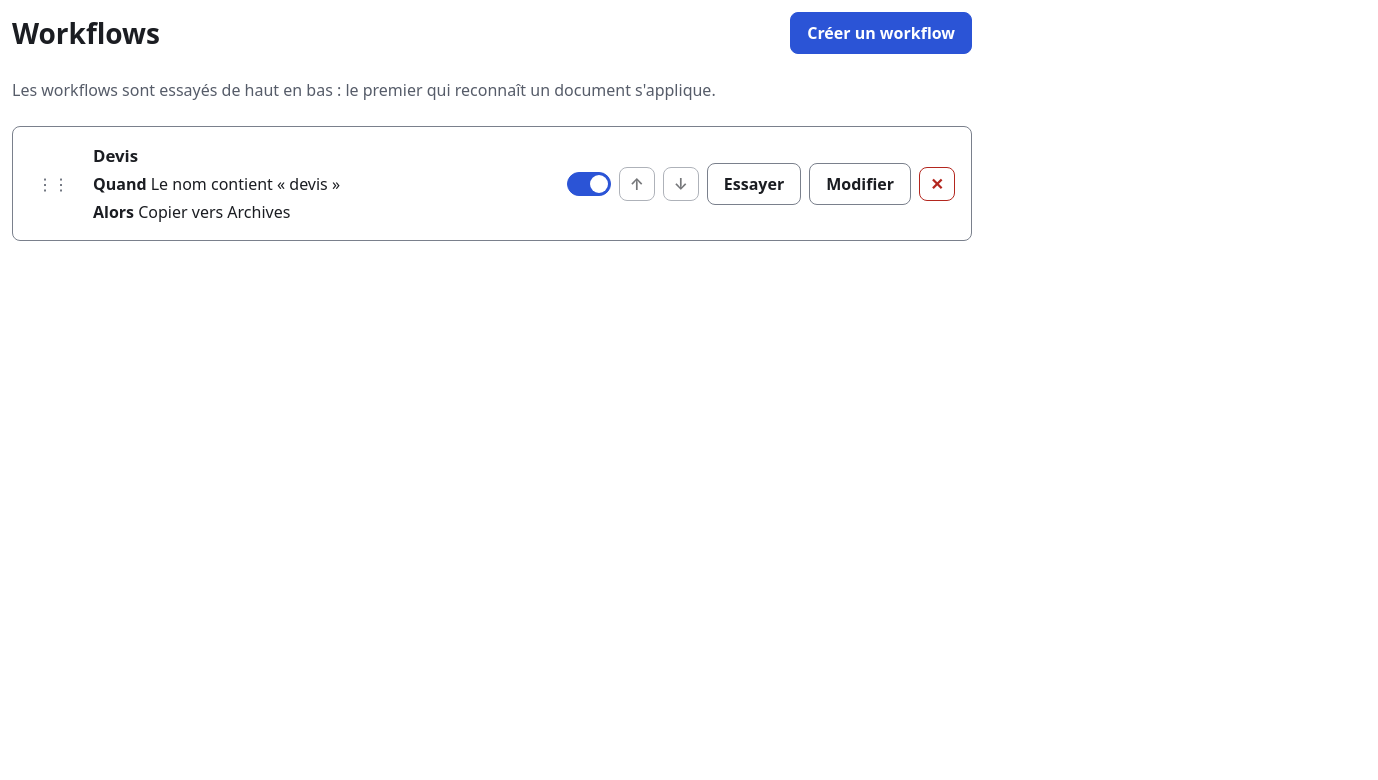
Scenario: WizardScreen › edits an existing workflow at its version
The width and height of the screenshot is (1378, 780).
Click the button "Modifier" at (860, 184), box [809, 163, 911, 205]
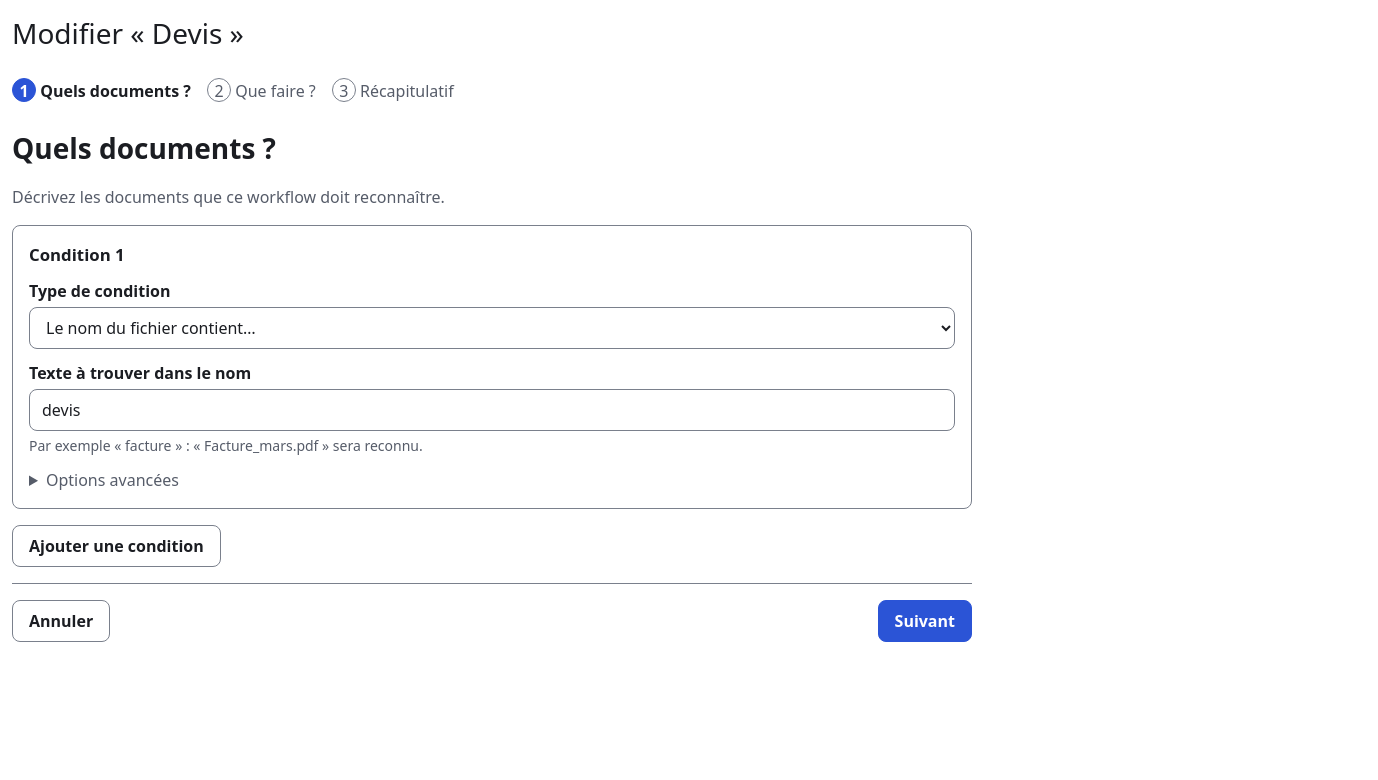
Result: the text "Modifier « Devis »" is shown at [12, 12, 244, 54]
Result: the field labelled "Texte à trouver dans le nom" holds "devis" at [29, 389, 955, 431]
Click the button "Suivant" at (925, 621), box [878, 600, 972, 642]
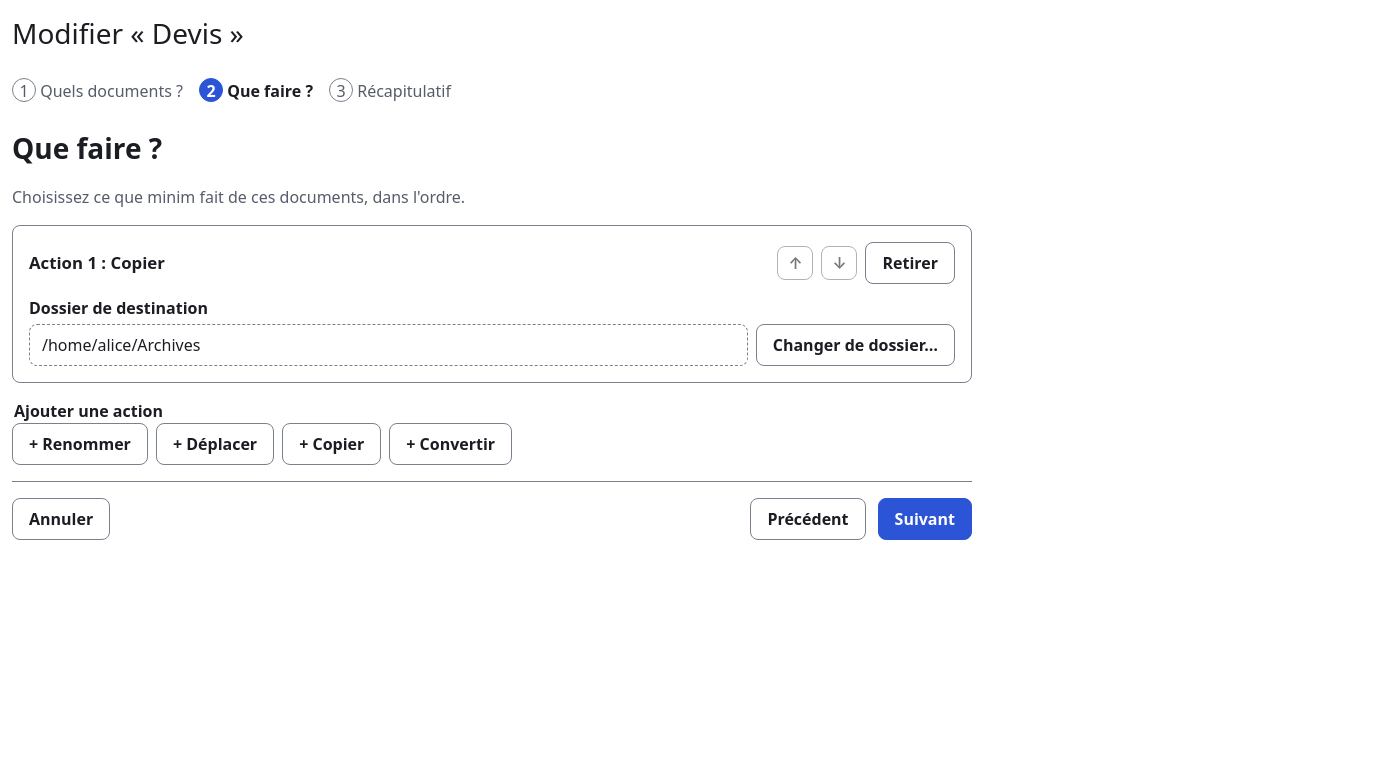
Result: the text "/home/alice/Archives" is shown at [29, 324, 748, 366]
Click the button "Suivant" at (925, 519), box [878, 498, 972, 540]
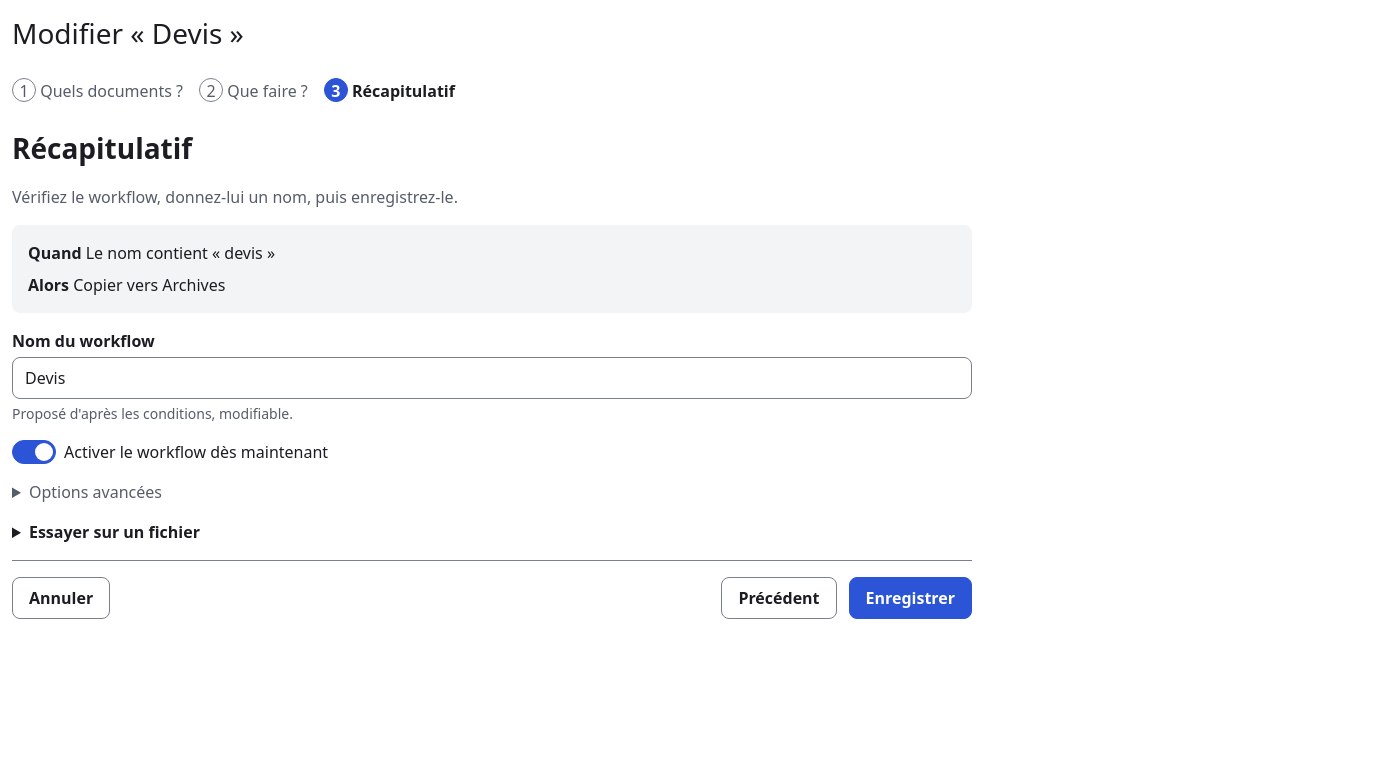
Replace the text in the field labelled "Nom du workflow" with "Devis clients" at (492, 378), box [12, 357, 972, 399]
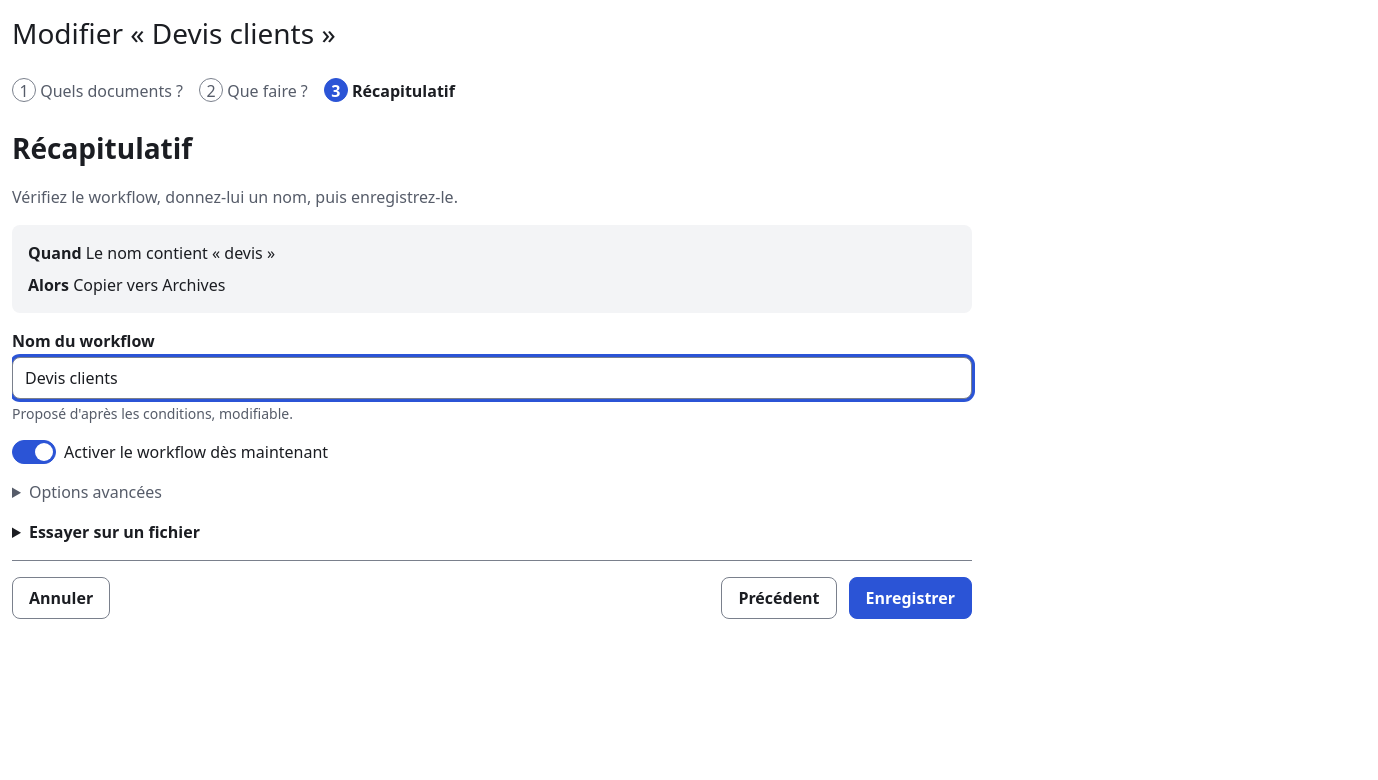
Click the button "Enregistrer" at (910, 598), box [848, 577, 972, 619]
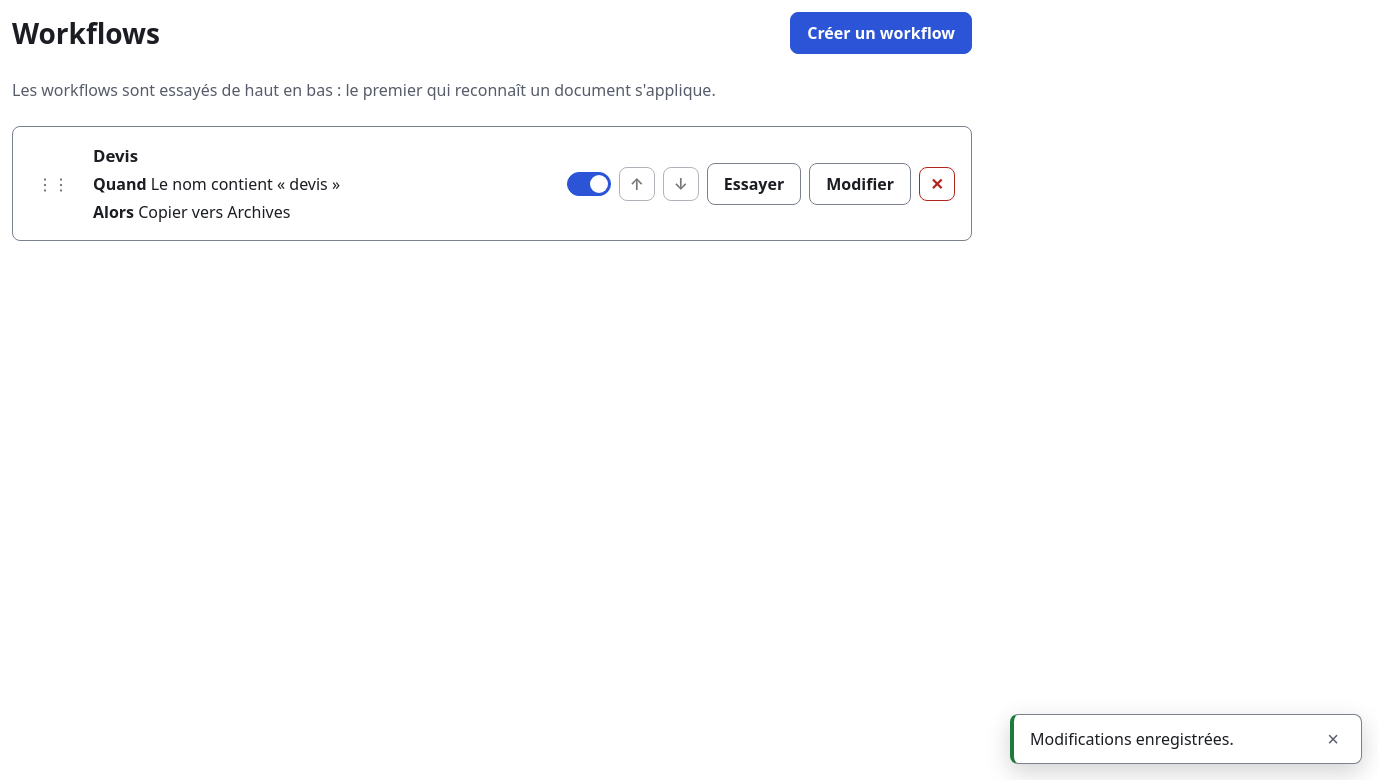
Result: the text "Modifications enregistrées." is shown at [1030, 728, 1234, 750]
